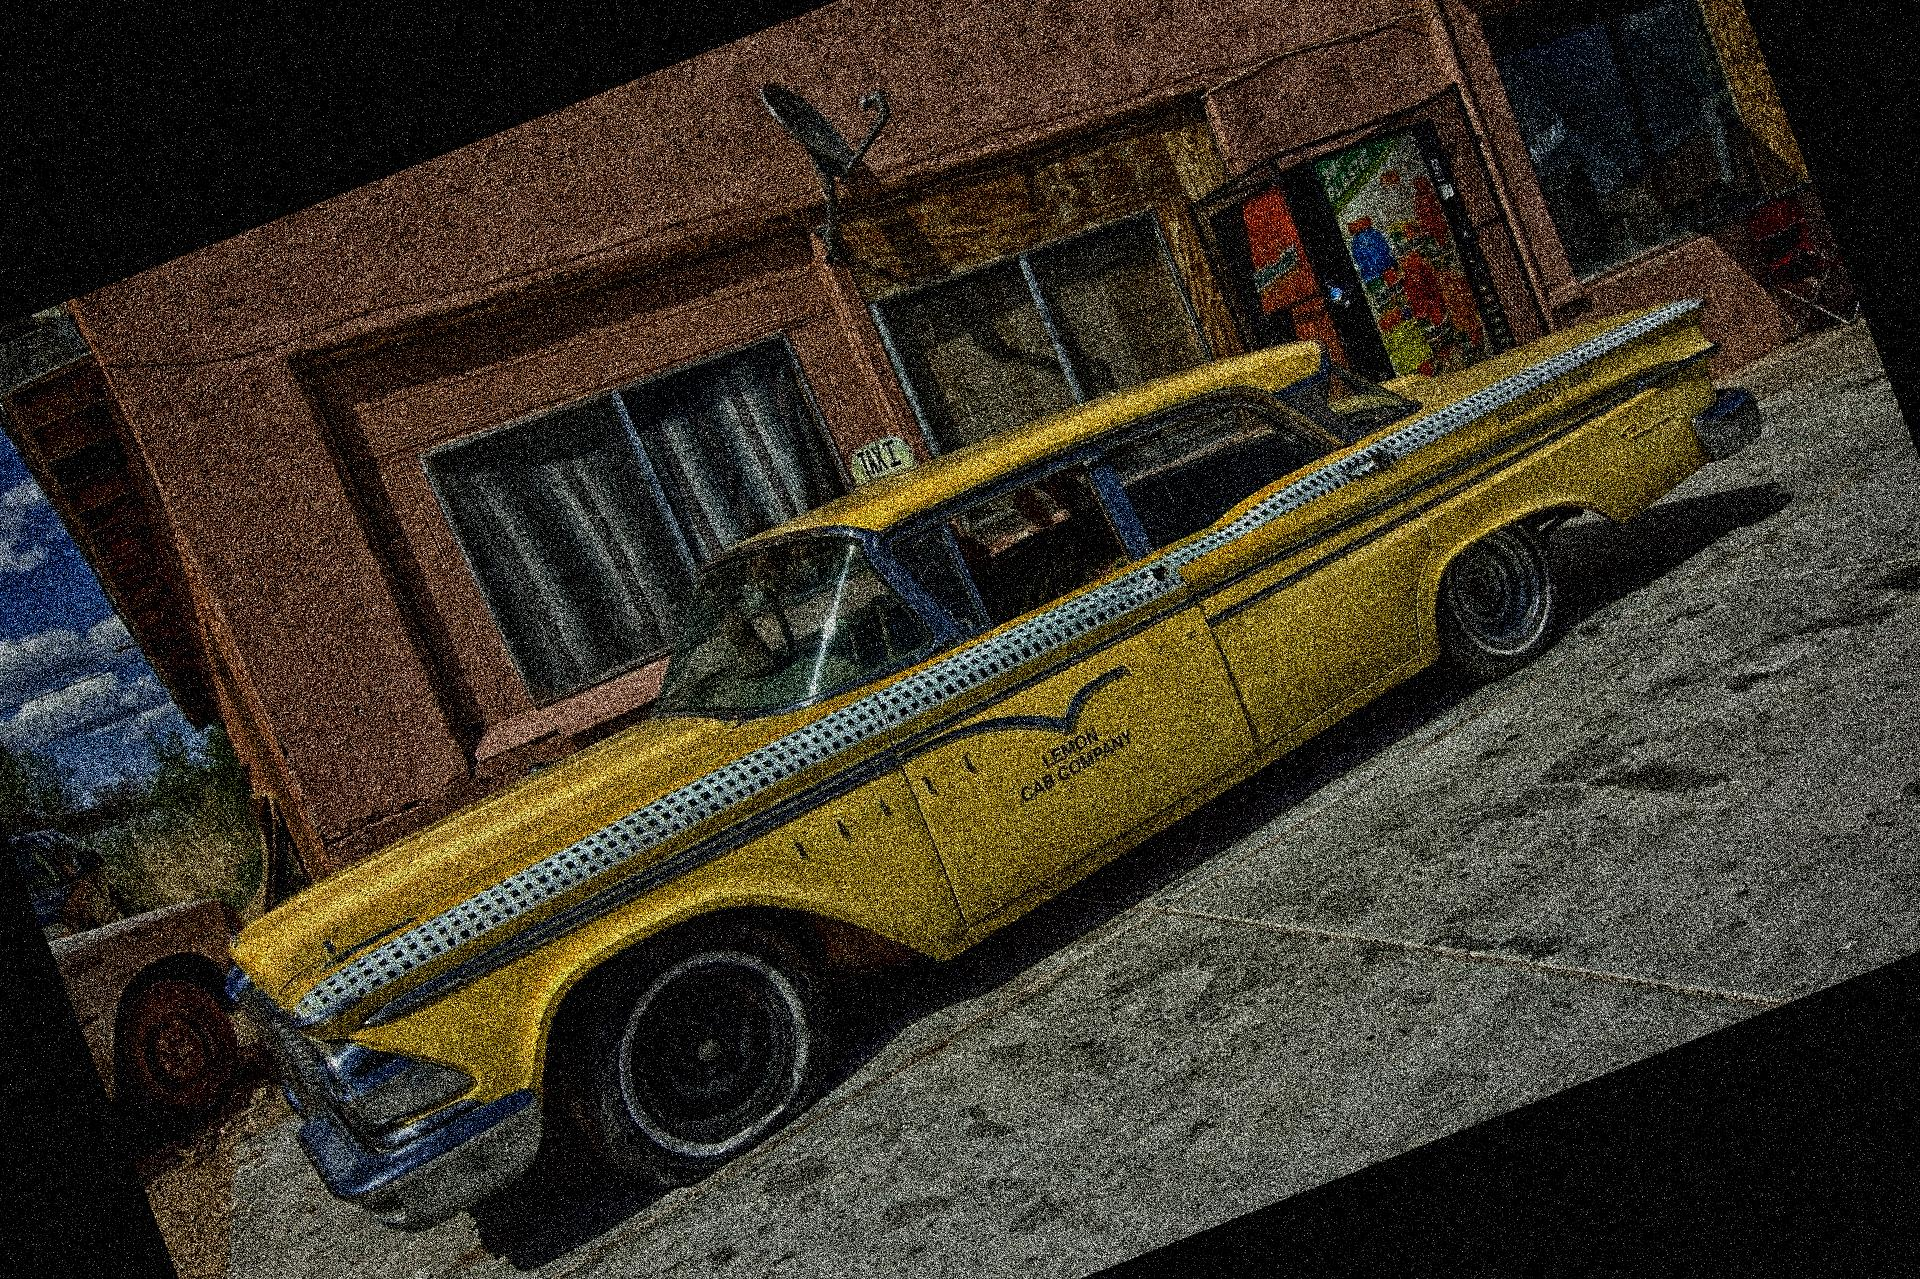taxi: (188, 420, 1792, 1171)
